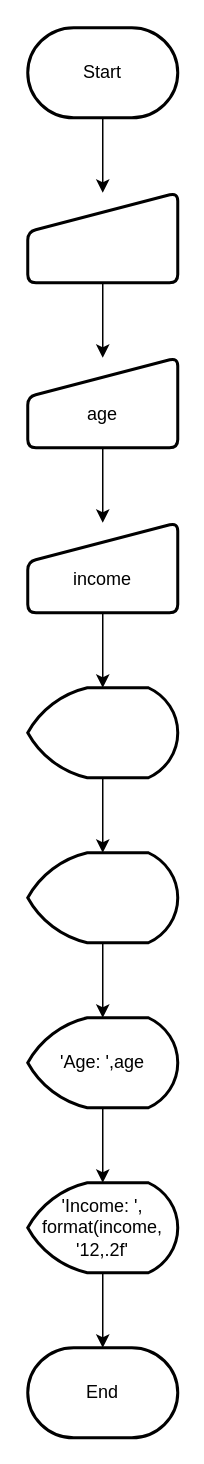
Some shapes in this 204 by 1464 pixel diagram are drawn without their labels. The shapes that lost their labels are listed below. From the top down, each one's centre as x and y in pixels, then its label:
the point at 102,237: Name
the point at 102,732: 'Here is the data you enterated: '
the point at 102,897: 'Name: ',name
